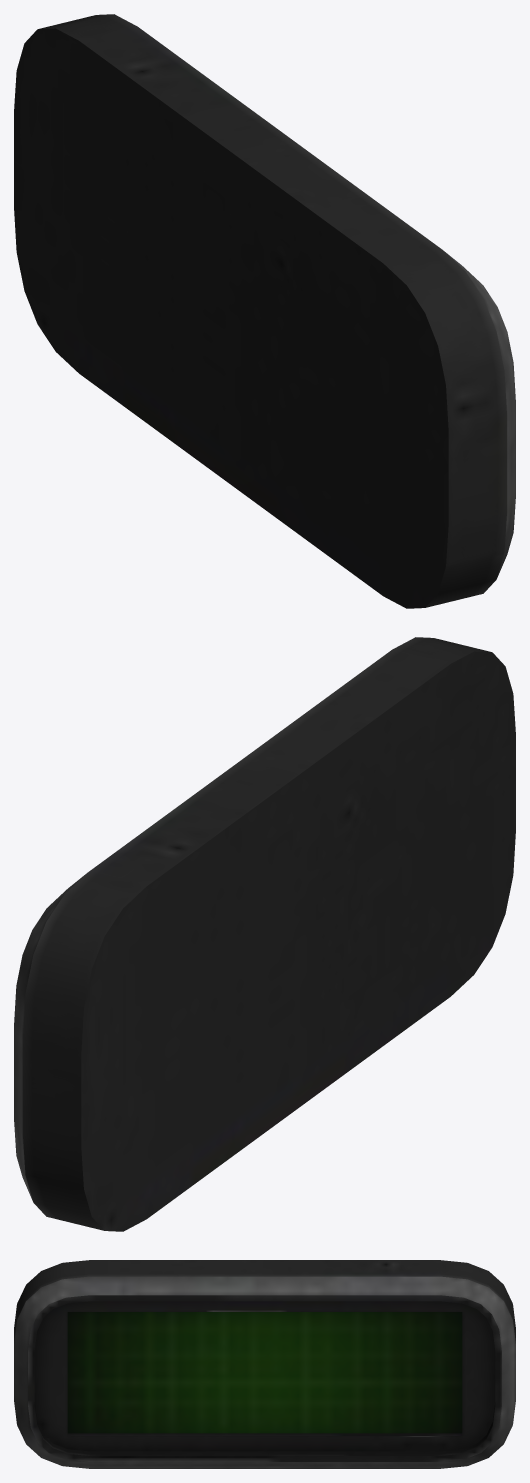
Rendered from DigiClock.FBX.
3 renders of one model, top to bottom at view 1: azimuth 30°, elevation 25°; view 2: azimuth 150°, elevation 25°; view 3: azimuth 270°, elevation 25°, orthographic. The views are drawn at different scales.
Visible parts, largest first — view 1: DigiClock; view 2: DigiClock; view 3: DigiClock.
Boxes of the visible parts, box(x1,y1,x2,y2) form: DigiClock: box(14, 14, 515, 608); DigiClock: box(14, 637, 515, 1231); DigiClock: box(14, 1260, 515, 1468).
Bounding box in the file's own units: 4.06 × 16.23 × 38.41.
